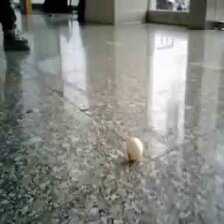w: (125, 136, 143, 161)
